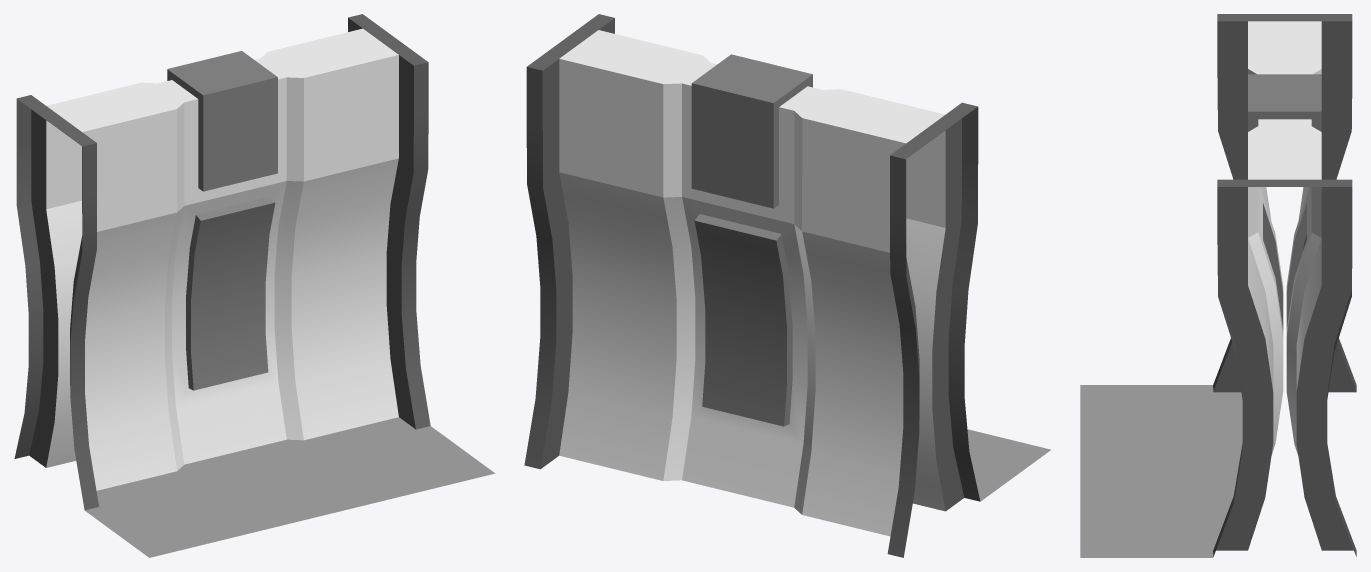
The model's file is SM_ExteriorWall_01.fbx.
3 renders of one model, left to right at view 1: azimuth 30°, elevation 25°; view 2: azimuth 150°, elevation 25°; view 3: azimuth 270°, elevation 25°, orthographic. The views are drawn at different scales.
Visible parts, largest first — view 1: SM_ExteriorWall_01; view 2: SM_ExteriorWall_01; view 3: SM_ExteriorWall_01.
Boxes of the visible parts, <box> form: SM_ExteriorWall_01: <box>14,14,495,557</box>; SM_ExteriorWall_01: <box>524,14,1050,557</box>; SM_ExteriorWall_01: <box>1080,14,1356,557</box>.
Bounding box in the file's own units: 200 × 204 × 135.
1 material, 1 textured.
